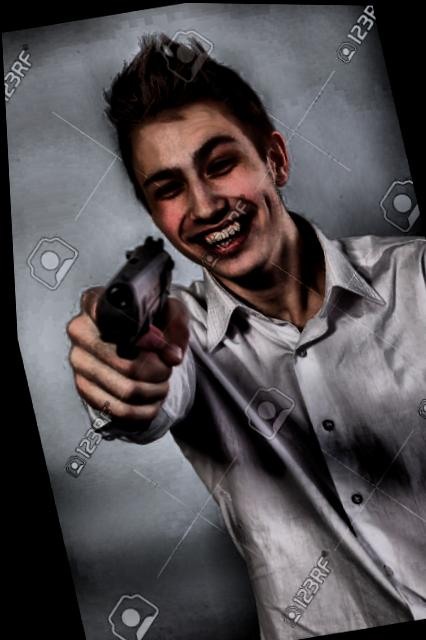pistol: (66, 225, 210, 441)
